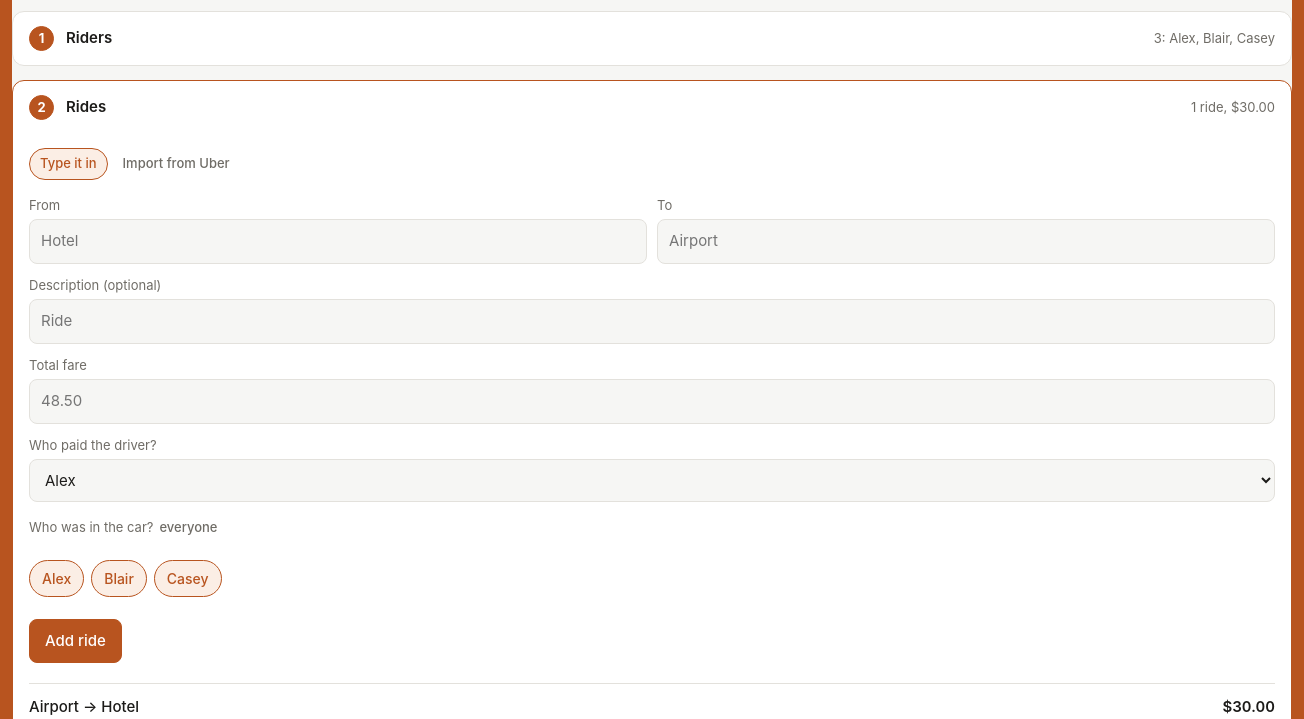
it: trip page › adds a ride from the form, names it after the stops, and saves it
Type "Beach" into the field with id "ride-from".
click(338, 241); type("Beach")  # box [29, 219, 647, 264]
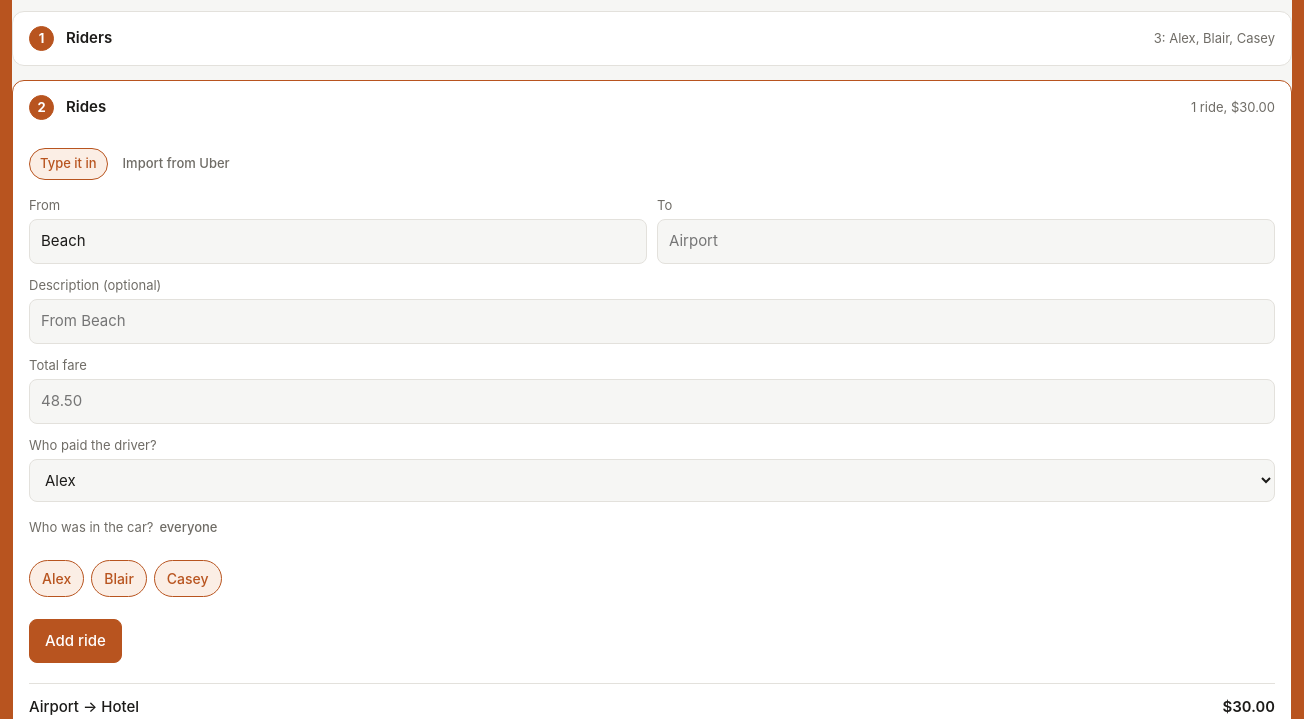
Type "12" into the field with id "ride-amount".
click(652, 401); type("12")  # box [29, 379, 1275, 424]
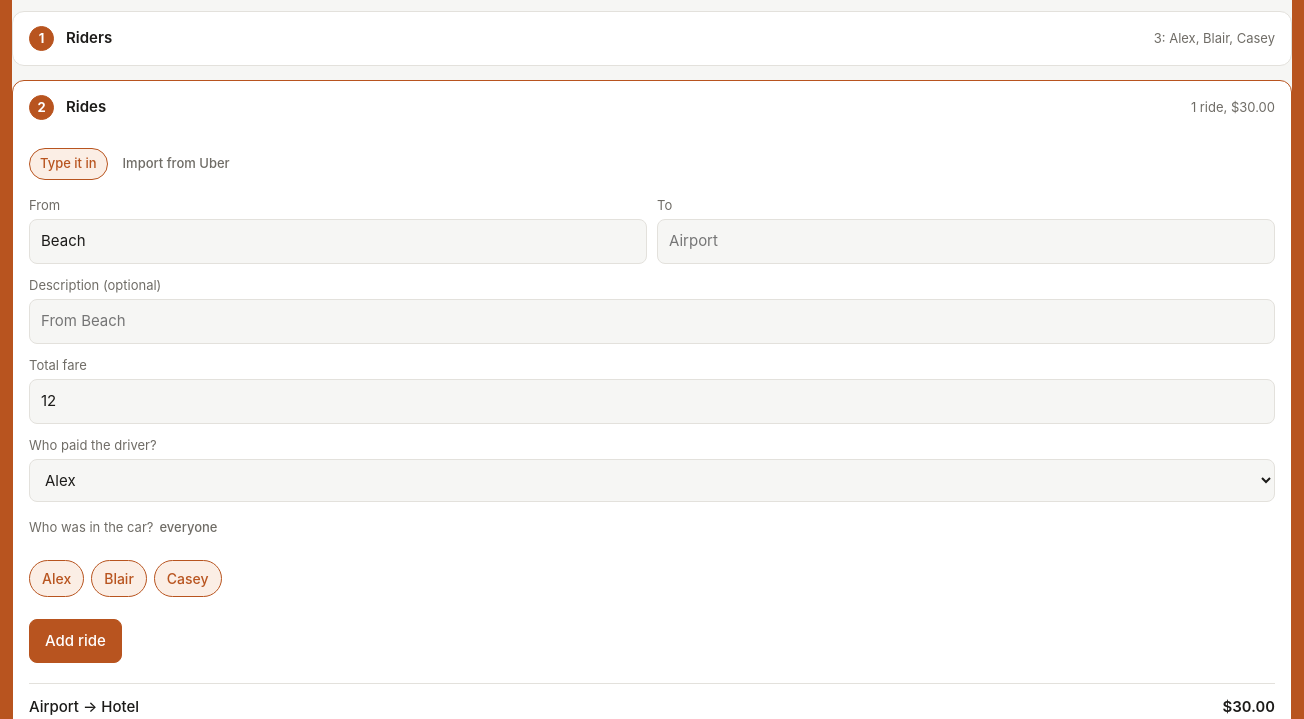
Click the button "Add ride".
click(75, 641)  # box [29, 618, 122, 663]
(page scrolled)
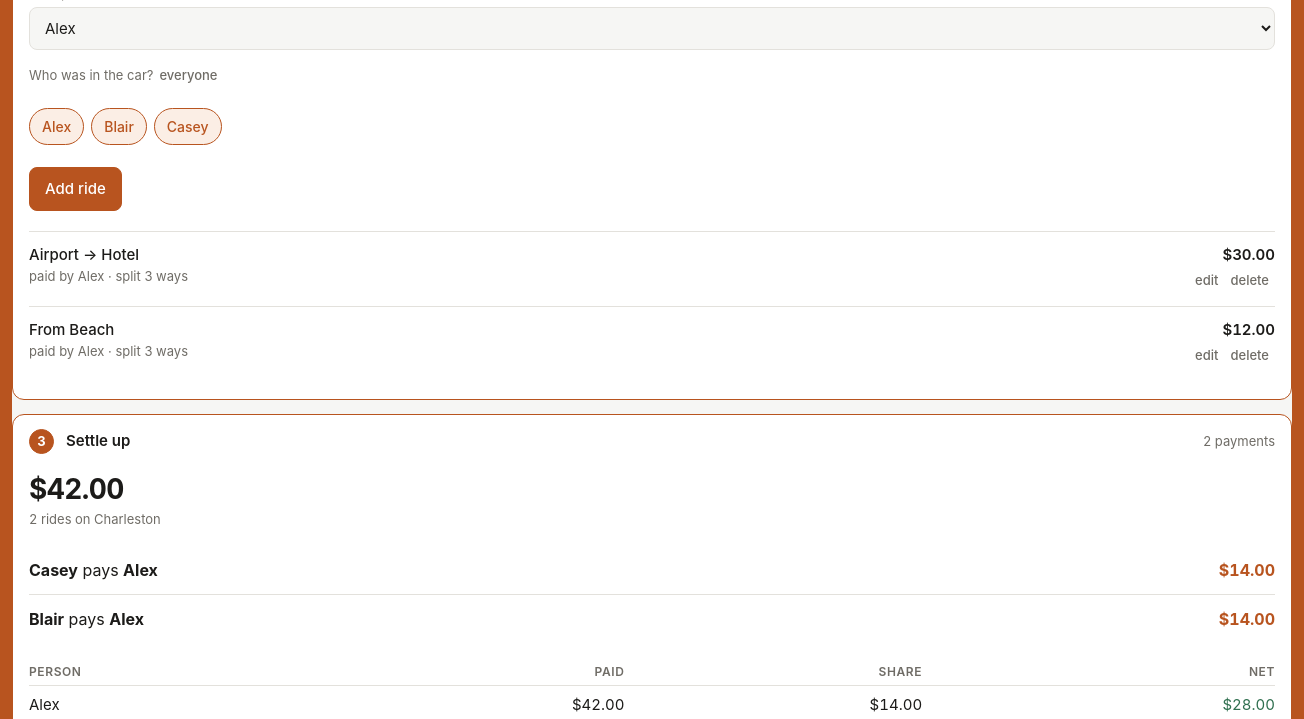
Result: the text "From Beach" is shown at [29, 320, 114, 339]
